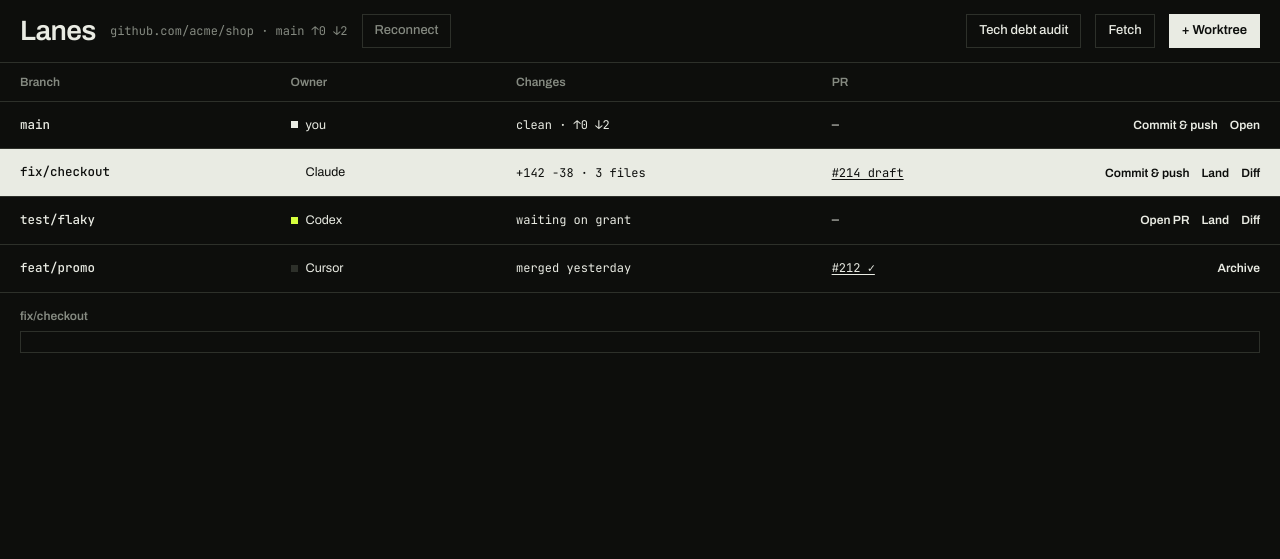
Repo screen › clicking a lane selects it (inverted) and requests its diff
Step 1. Click the row "test/flaky Codex waiting on grant — Open PR Land Diff" → (640, 221), box [0,197,1279,245]
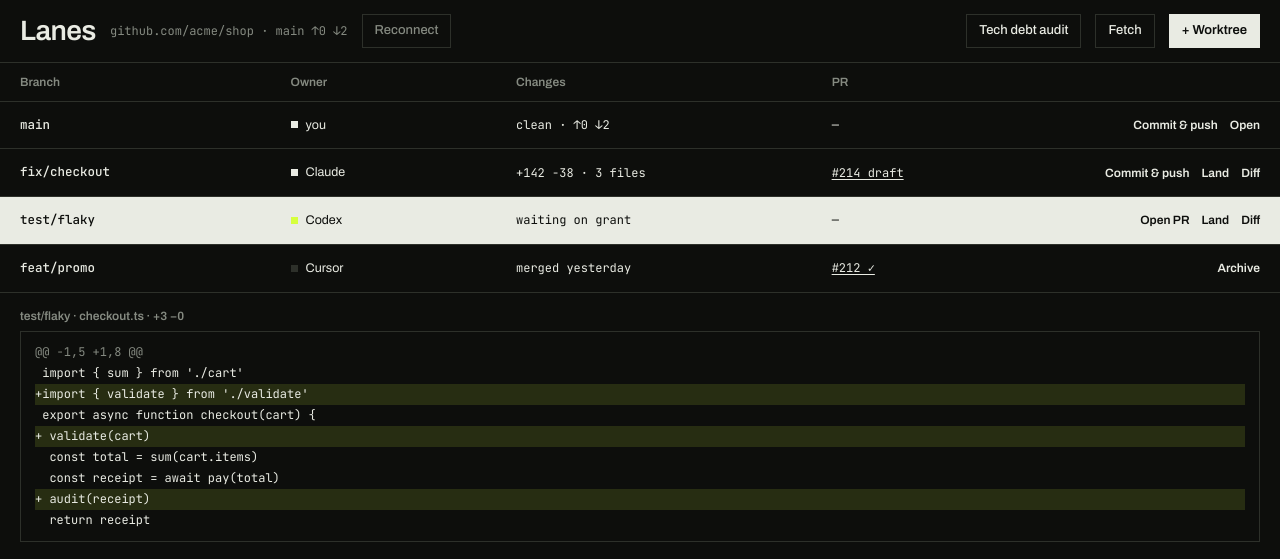
Check: the element named "test/flaky" is shown, box [20,330,1260,542]
